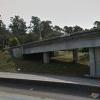Bridge: (10, 32, 95, 71)
